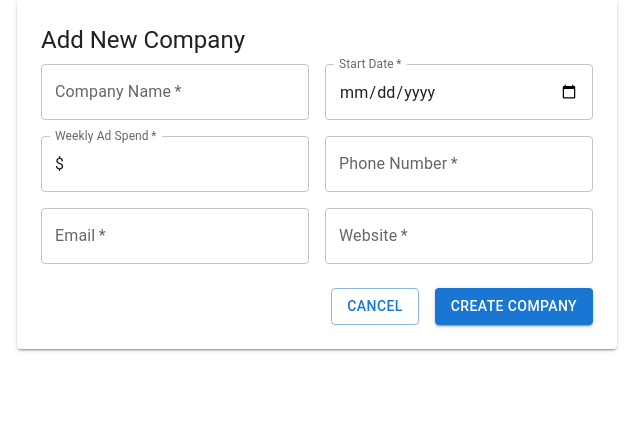
CompanyForm › Create Mode › validates email format
This screenshot has width=635, height=438.
Type "invalid-email" into the field labelled "Email *". click: (175, 236)
box: [41, 208, 309, 264]
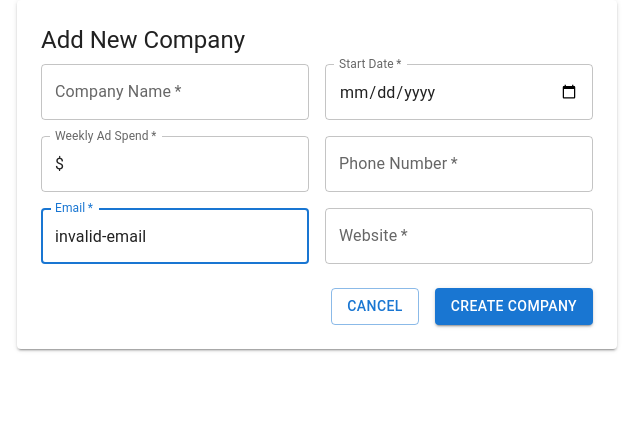
Click the button "Create Company". click: (514, 307)
box: [435, 288, 593, 325]
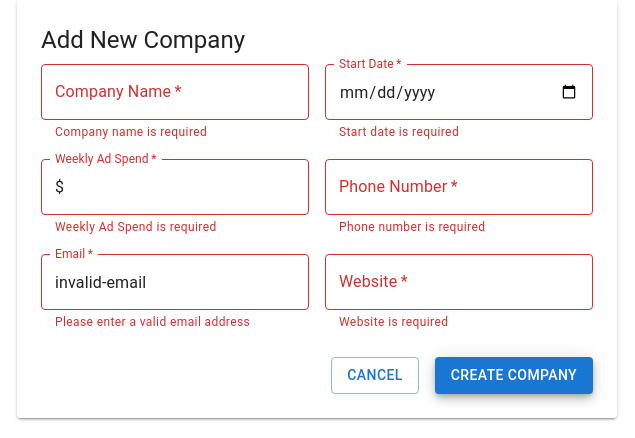
expect the text "Please enter a valid email address" is shown: met, box [55, 315, 250, 329]
